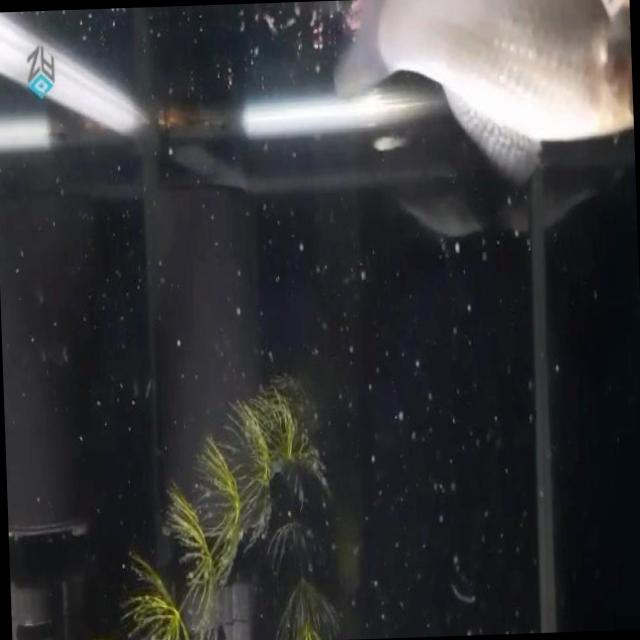PlatyFish: (312, 0, 636, 202)
